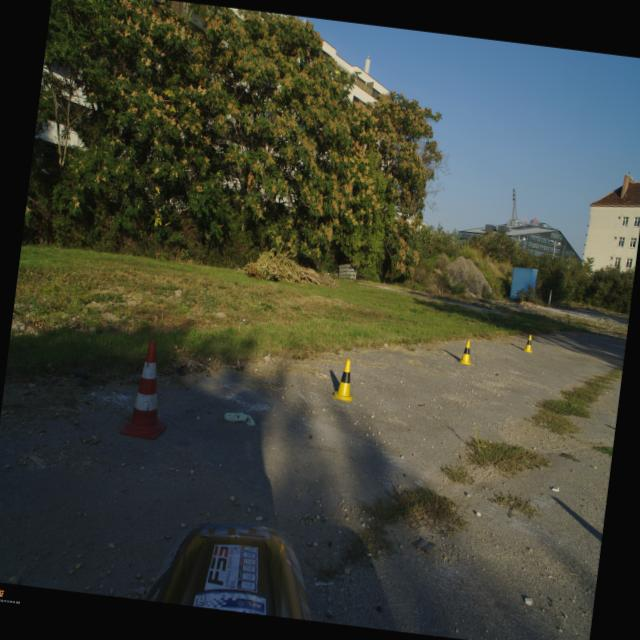large_orange_cone: (119, 337, 176, 442)
yellow_cone: (330, 357, 359, 403), (457, 339, 474, 365), (521, 333, 534, 352)
